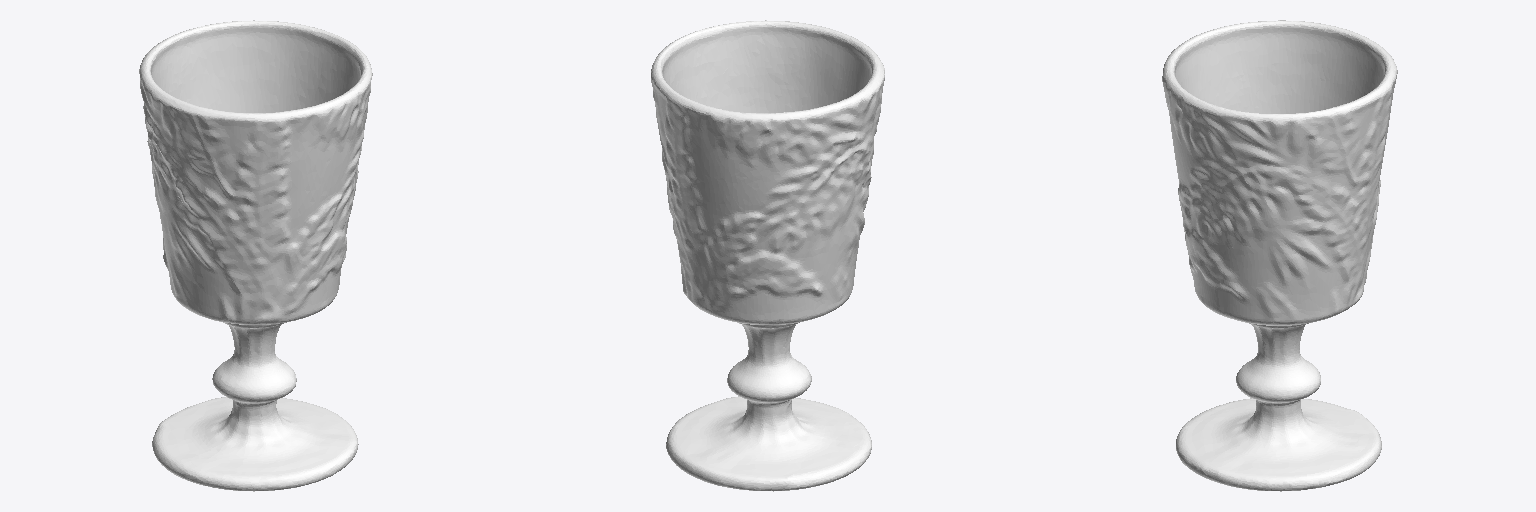
URDF robot description (model.urdf):
<robot name="model.urdf">
    <link name="baseLink">
        <contact>
            <lateral_friction value="0.12"/>
            <rolling_friction value="0.001"/>
            <spinning_friction value="0.001"/>
            <contact_cfm value="0.0"/>
            <contact_erp value="1.0"/>
        </contact>
        <inertial>
            <origin rpy="0 0 0" xyz="0 0.0 0.0"/>
            <mass value=".3"/>
            <inertia ixx="1e-3" ixy="0" ixz="0" iyy="1e-3" iyz="0" izz="1e-3"/>
        </inertial>
        <visual>
            <geometry>
                <mesh filename="nontextured.stl" scale="1 1 1"/>
            </geometry>
            <material name="white">
                <color rgba="1 1 1 1"/>
            </material>
        </visual>
        <collision>
            <geometry>
                <mesh filename="nontextured.stl" scale="1 1 1"/>
            </geometry>
        </collision>
    </link>
</robot>

--- What the picture shows (computed from the rendered views, not written in the file) ---
The picture shows the robot from 3 angles, left to right: view 1: azimuth 30°, elevation 25°; view 2: azimuth 150°, elevation 25°; view 3: azimuth 270°, elevation 25°; orthographic projection.
Robot: model.urdf — 1 links, 0 joints (none); root link baseLink; default pose: all joints at 0.
Links seen in each view (by area): view 1: baseLink; view 2: baseLink; view 3: baseLink.
Link boxes in pixels (x1,y1,x2,y2): baseLink: (139,20,372,491); baseLink: (651,20,884,491); baseLink: (1162,20,1397,491).
Bounding box of the posed robot: 0.0917 × 0.0914 × 0.1649 m (x, y, z).
Meshes: 1 distinct files referenced, 1 mesh visuals loaded (1 binary STL).